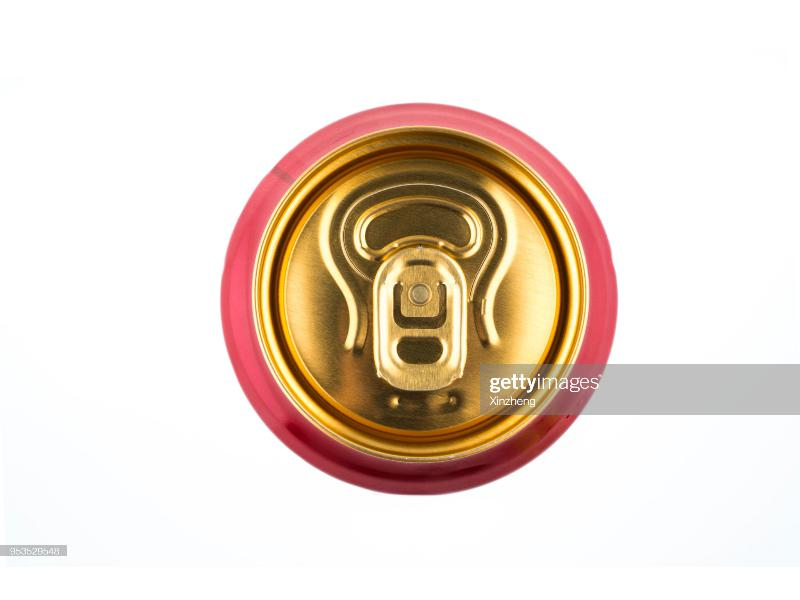can: (204, 92, 638, 505)
